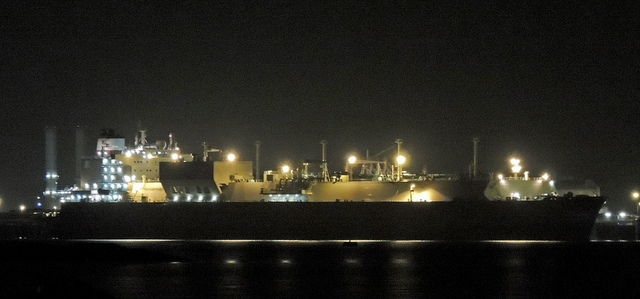LNG_ship: (62, 136, 616, 237)
